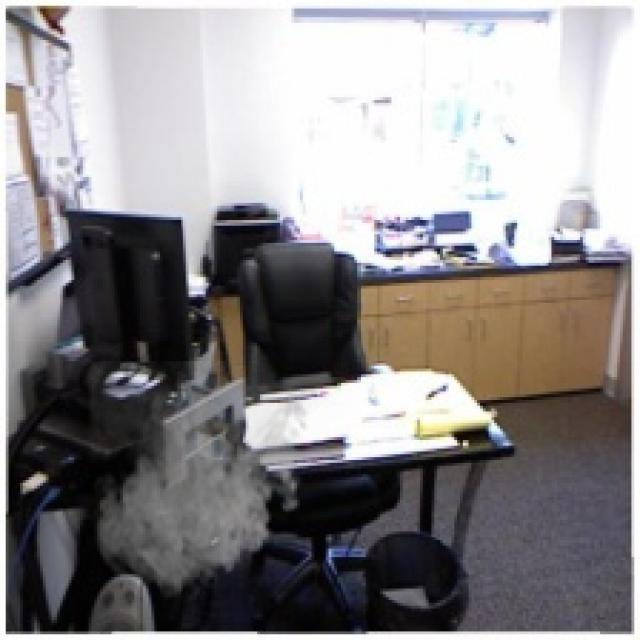smoke: (89, 360, 314, 606)
